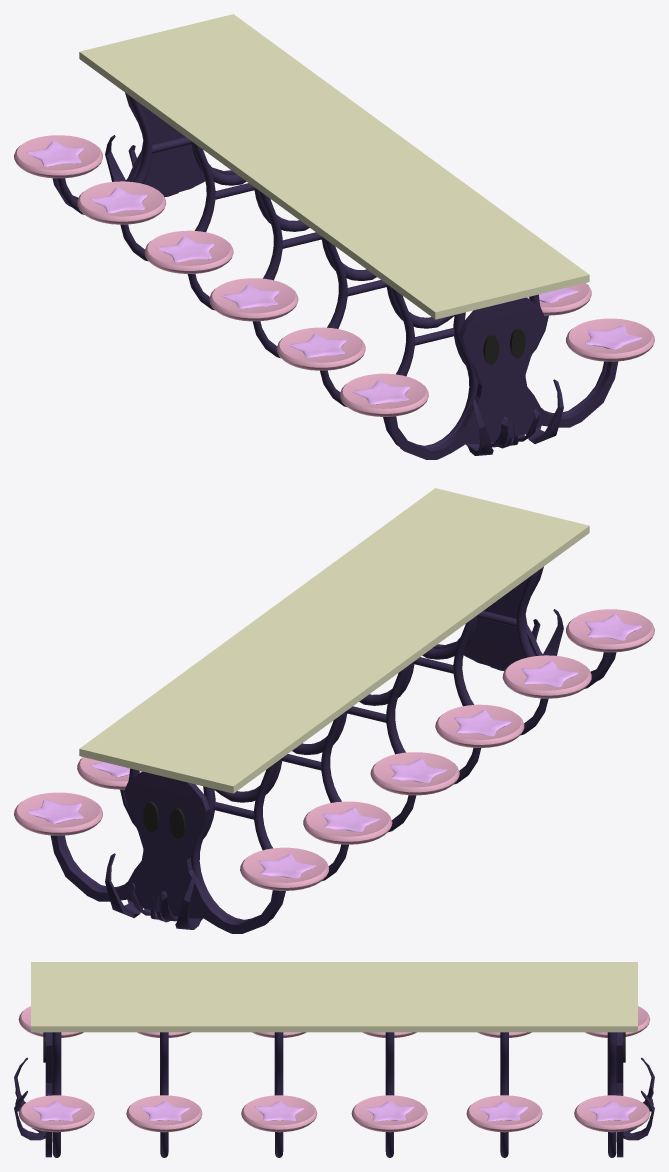
Rendered from Cafeteria Table EXPORT.fbx.
3 views of the same model, one above another, from view 1: azimuth 30°, elevation 25°; view 2: azimuth 150°, elevation 25°; view 3: azimuth 270°, elevation 25° (orthographic). The views are drawn at different scales.
Visible parts, largest first — view 1: Cube, Cylinder.006, Cylinder.003, Cylinder.004, Cylinder.005, Cylinder.002, Cylinder.001, Cylinder, Icosphere, Icosphere.001, Icosphere.002, Cylinder.007 (+2 smaller); view 2: Cube, Cylinder.006, Cylinder.003, Cylinder.004, Cylinder.005, Cylinder.002, Cylinder.001, Cylinder, Icosphere, Icosphere.001, Icosphere.002, Cylinder.007 (+2 smaller); view 3: Cube, Cylinder.003, Cylinder.004, Cylinder.005, Cylinder.006, Cylinder, Cylinder.002, Cylinder.001, Icosphere.001, Icosphere, Icosphere.002.
Part boxes in pixels (x1,y1,x2,y2): Cube: (79, 14, 589, 319); Cylinder.006: (52, 92, 618, 459); Cylinder.003: (14, 135, 654, 416); Cylinder.004: (77, 181, 591, 370); Cylinder.005: (144, 230, 298, 321); Cylinder.002: (187, 191, 454, 358); Cylinder.001: (120, 142, 548, 406); Cylinder: (57, 95, 607, 448); Icosphere: (27, 140, 641, 404); Icosphere.001: (90, 187, 578, 357); Icosphere.002: (157, 236, 279, 308); Cylinder.007: (483, 327, 525, 364); Cube: (79, 488, 589, 793); Cylinder.006: (50, 566, 616, 933); Cylinder.003: (14, 609, 654, 890); Cylinder.004: (77, 655, 591, 844); Cylinder.005: (370, 704, 524, 795); Cylinder.002: (214, 665, 481, 832); Cylinder.001: (120, 616, 548, 880); Cylinder: (61, 569, 611, 922); Icosphere: (27, 614, 641, 878); Icosphere.001: (90, 661, 578, 831); Icosphere.002: (389, 710, 511, 782); Cylinder.007: (143, 801, 185, 838); Cube: (31, 962, 637, 1032); Cylinder.003: (18, 1006, 650, 1132); Cylinder.004: (126, 1032, 542, 1132); Cylinder.005: (241, 1032, 427, 1132); Cylinder.006: (14, 1032, 654, 1157); Cylinder: (52, 1032, 616, 1157); Cylinder.002: (274, 1032, 394, 1157); Cylinder.001: (160, 1032, 508, 1157); Icosphere.001: (140, 1101, 528, 1121); Icosphere: (32, 1101, 636, 1121); Icosphere.002: (255, 1101, 413, 1121).
Bounding box in the file's own units: 393 × 195 × 844.
